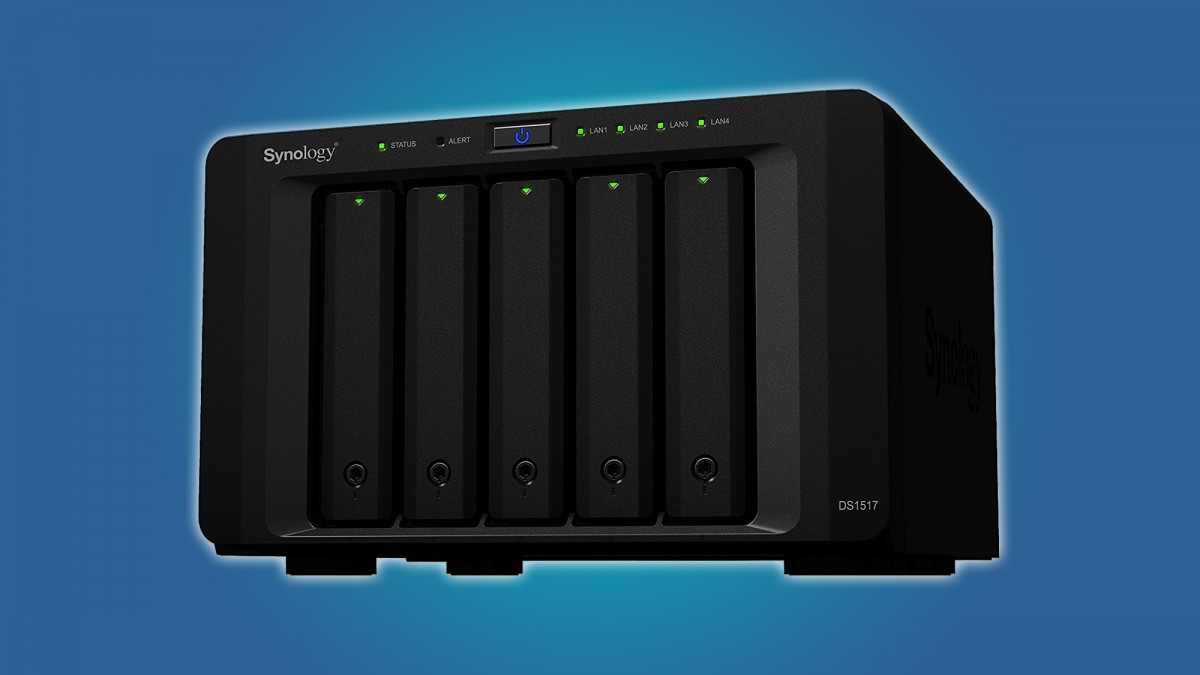NAS: (175, 72, 1043, 608)
